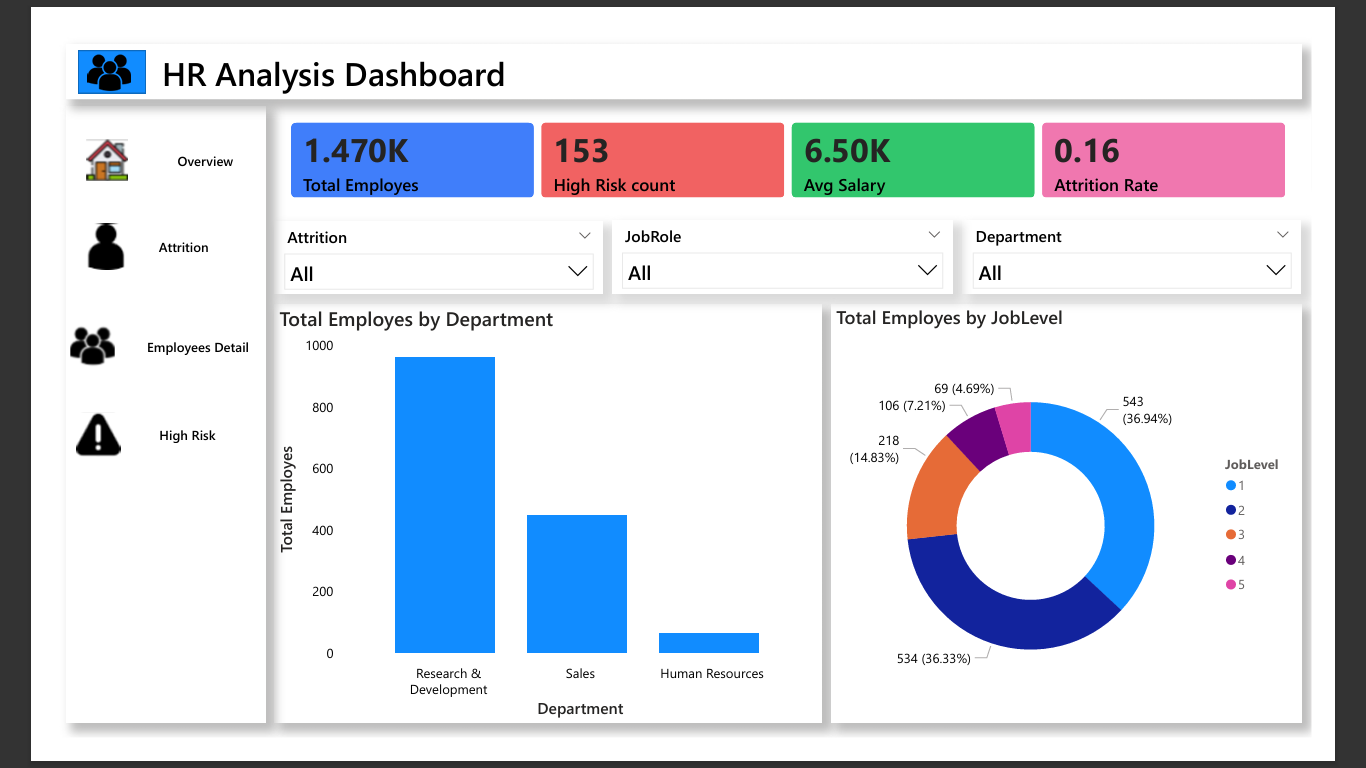

This screenshot's page, from the dashboard's own definition file:
{"tool":"powerbi","page":{"name":"Overview","canvas":[1280,720],"ordinal":0},"visuals":[{"type":"cardVisual","fields":{"Data":["hr_clean.Total Employes","hr_clean.High Risk count","hr_clean.Avg Salary","hr_clean.Attrition Rate"]},"box":[224.3,77.1,1046,110.1],"z":0},{"type":"columnChart","fields":{"Category":["hr_clean.Department"],"Y":["hr_clean.Total Employes"]},"box":[224.3,279.4,557.4,425.3],"z":1000},{"type":"donutChart","fields":{"Y":["hr_clean.Total Employes"],"Category":["hr_clean.JobLevel"]},"box":[791.4,279.4,479,425.3],"z":2000},{"type":"slicer","fields":{"Values":["hr_clean.Attrition"]},"box":[224.3,194.1,334.5,74.3],"z":3000},{"type":"shape","box":[12.4,77.1,202.3,627.6],"z":4000},{"type":"shape","box":[12.4,13.8,1258,56.4],"z":5000},{"type":"actionButton","box":[28.9,107.4,156.9,49.5],"z":6000},{"type":"actionButton","box":[24.8,192.7,136.3,55.1],"z":7000},{"type":"actionButton","box":[12.4,294.5,189.9,53.7],"z":8000},{"type":"actionButton","box":[17.9,385.4,150,52.3],"z":9000},{"type":"slicer","fields":{"Values":["hr_clean.Department"]},"box":[924.9,192.7,345.5,75.7],"z":10000},{"type":"slicer","fields":{"Values":["hr_clean.JobRole"]},"box":[568.4,192.7,346.8,75.7],"z":11000},{"type":"shape","box":[24.3,20,68.6,44.3],"z":12000},{"type":"image","box":[4.1,20.6,103.2,44],"z":13000}]}

Visuals, with their boxes on the page's 1280x720 design canvas (x1, y1, x2, y2). These are canvas units, not pixel positions in the 1366x768 screenshot, which may show the page scaled, cropped or inside an application window:
cardVisual - hr_clean.Total Employes x hr_clean.High Risk count: <region>224, 77, 1270, 187</region>
columnChart - hr_clean.Department x hr_clean.Total Employes: <region>224, 279, 782, 705</region>
donutChart - hr_clean.Total Employes x hr_clean.JobLevel: <region>791, 279, 1270, 705</region>
slicer - hr_clean.Attrition: <region>224, 194, 559, 268</region>
shape: <region>12, 77, 215, 705</region>
shape: <region>12, 14, 1270, 70</region>
actionButton: <region>29, 107, 186, 157</region>
actionButton: <region>25, 193, 161, 248</region>
actionButton: <region>12, 294, 202, 348</region>
actionButton: <region>18, 385, 168, 438</region>
slicer - hr_clean.Department: <region>925, 193, 1270, 268</region>
slicer - hr_clean.JobRole: <region>568, 193, 915, 268</region>
shape: <region>24, 20, 93, 64</region>
image: <region>4, 21, 107, 65</region>
